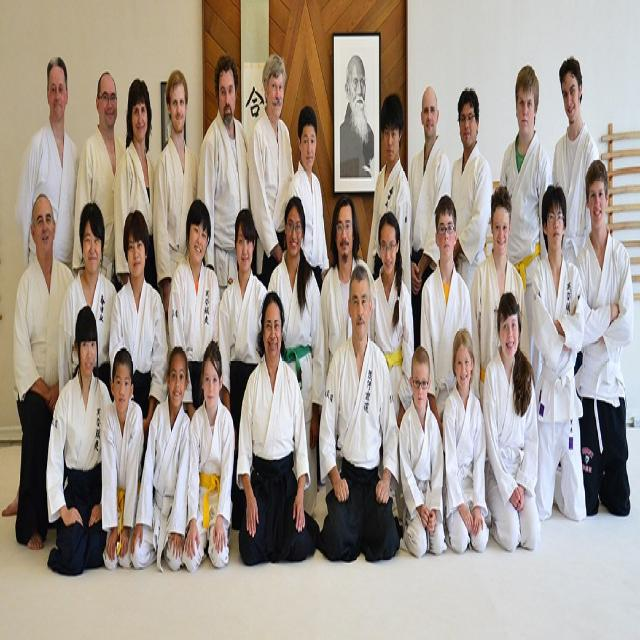body: (0, 54, 80, 523), (317, 263, 401, 564), (234, 286, 321, 570), (571, 156, 635, 520), (12, 193, 74, 554), (527, 178, 588, 528), (266, 193, 326, 518), (46, 303, 114, 577), (285, 103, 331, 496), (479, 286, 544, 554), (496, 59, 554, 350), (217, 206, 268, 533), (128, 343, 192, 574), (107, 206, 169, 437), (468, 182, 530, 412), (179, 334, 236, 577), (196, 51, 250, 302), (418, 193, 472, 436), (166, 196, 222, 423), (55, 198, 119, 396), (407, 85, 453, 352), (70, 68, 126, 283), (440, 323, 491, 557), (151, 63, 199, 306), (246, 53, 295, 290), (320, 193, 379, 387), (398, 340, 448, 561), (368, 209, 416, 437), (112, 74, 160, 294), (99, 344, 145, 573), (552, 54, 600, 264), (365, 92, 413, 298), (449, 84, 494, 299), (332, 32, 378, 188)
